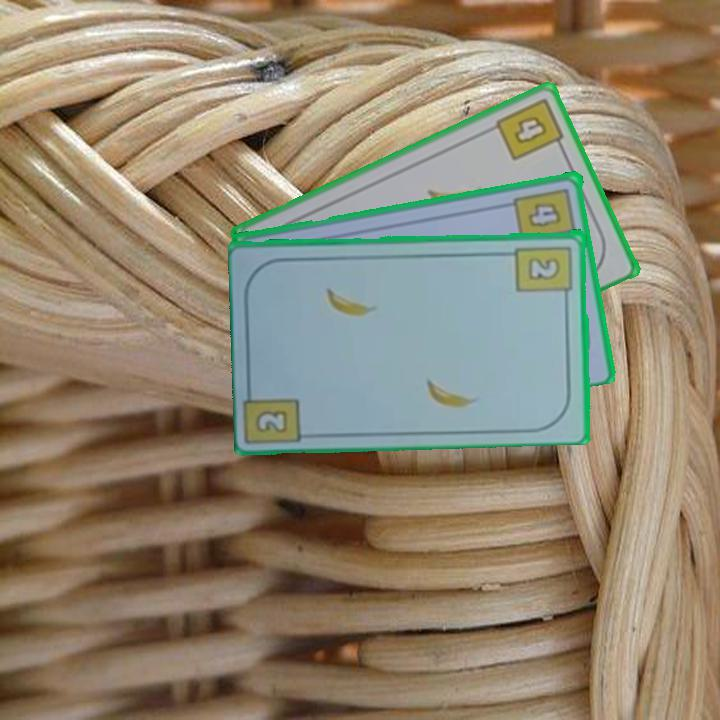2b: (513, 242, 575, 303), (251, 406, 292, 436)
4b: (492, 94, 568, 164), (511, 184, 579, 246)
